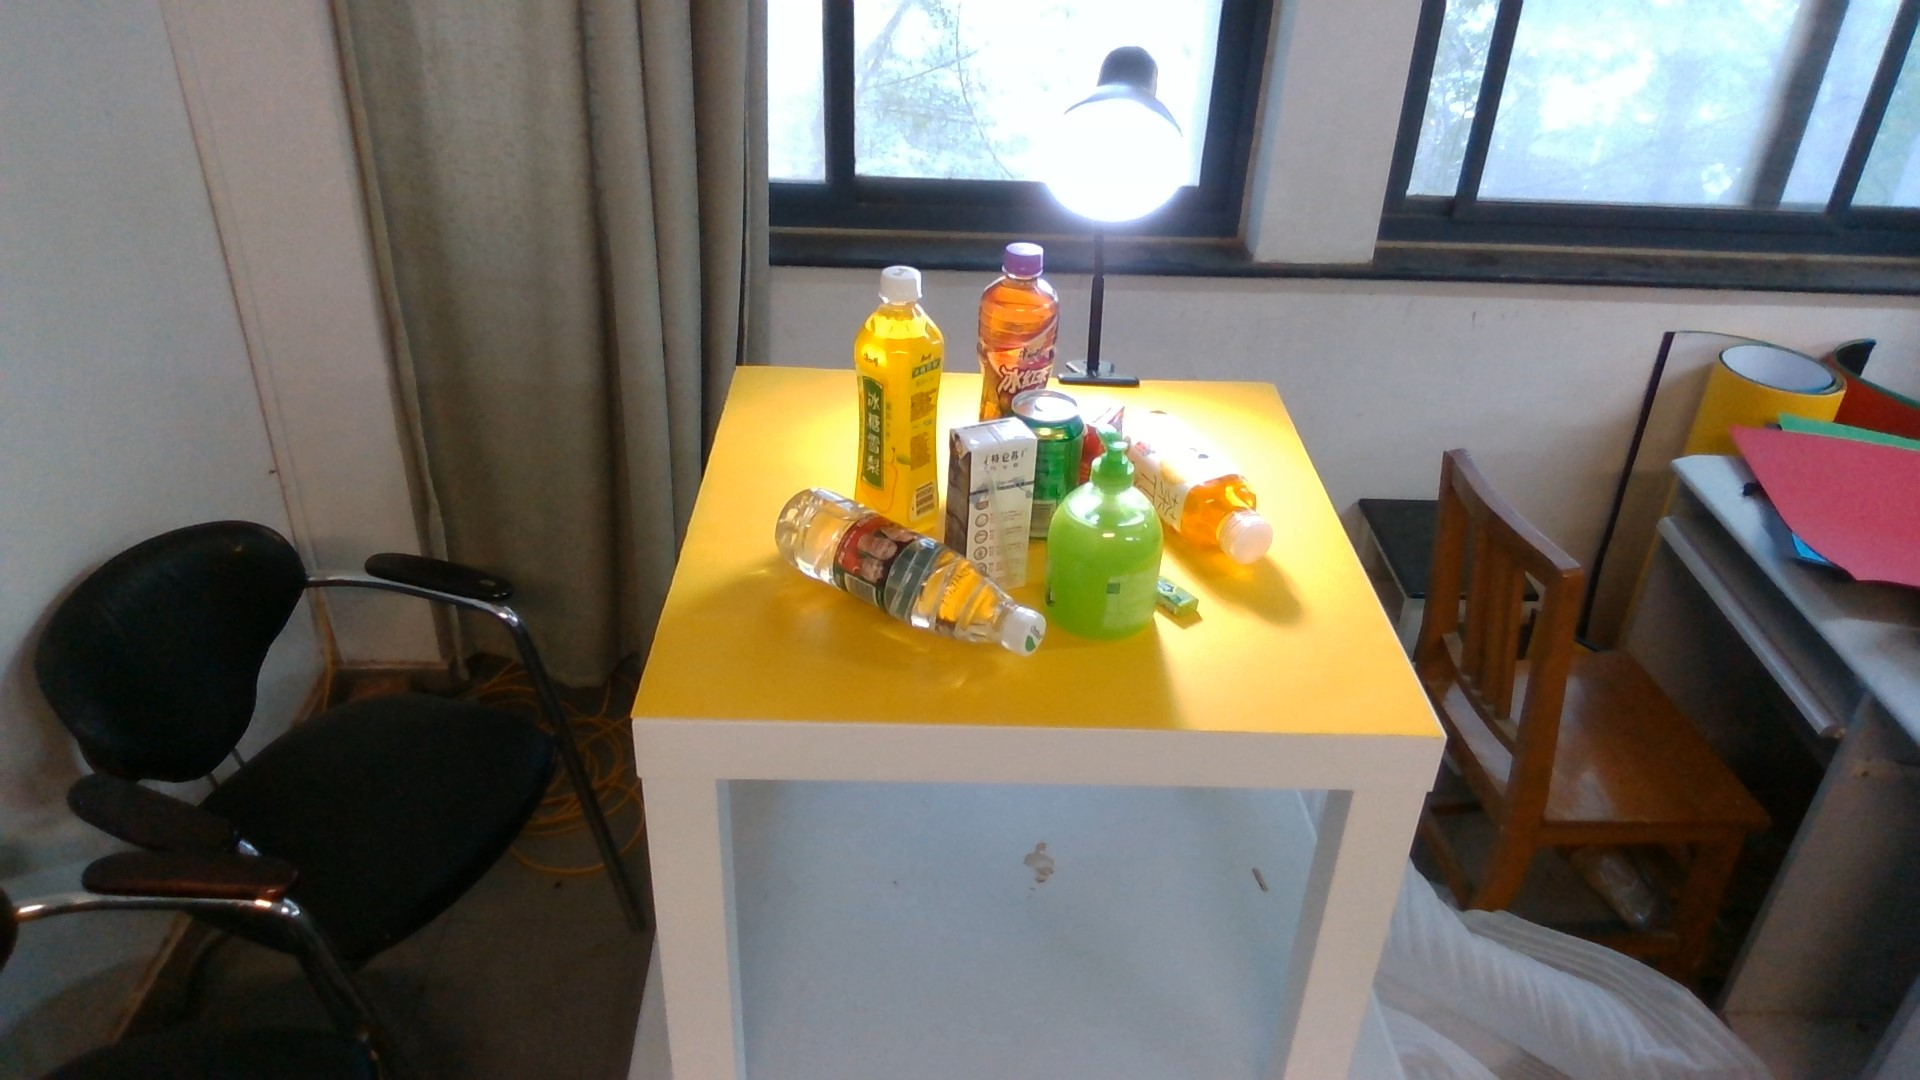BB002: (1160, 578, 1197, 620)
BB010: (945, 419, 1036, 553)
BB012: (1087, 429, 1104, 459)
ZA002: (1050, 496, 1160, 637)
ZC001: (1036, 386, 1084, 488)
ZC009: (980, 244, 1058, 382)
ZC011: (851, 264, 943, 505)
ZC012: (1160, 396, 1273, 560)
ZC017: (786, 555, 1044, 655)
